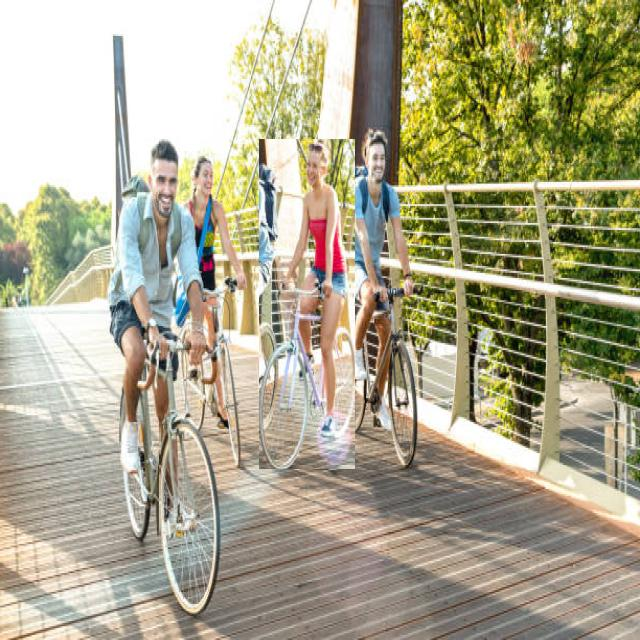bicycle: (108, 139, 220, 614), (259, 140, 355, 469), (339, 129, 416, 465)
